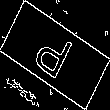P_SW: (31, 24, 79, 86)
